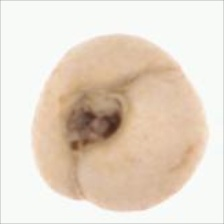L3: (63, 87, 126, 151)
L4: (32, 34, 209, 211)
